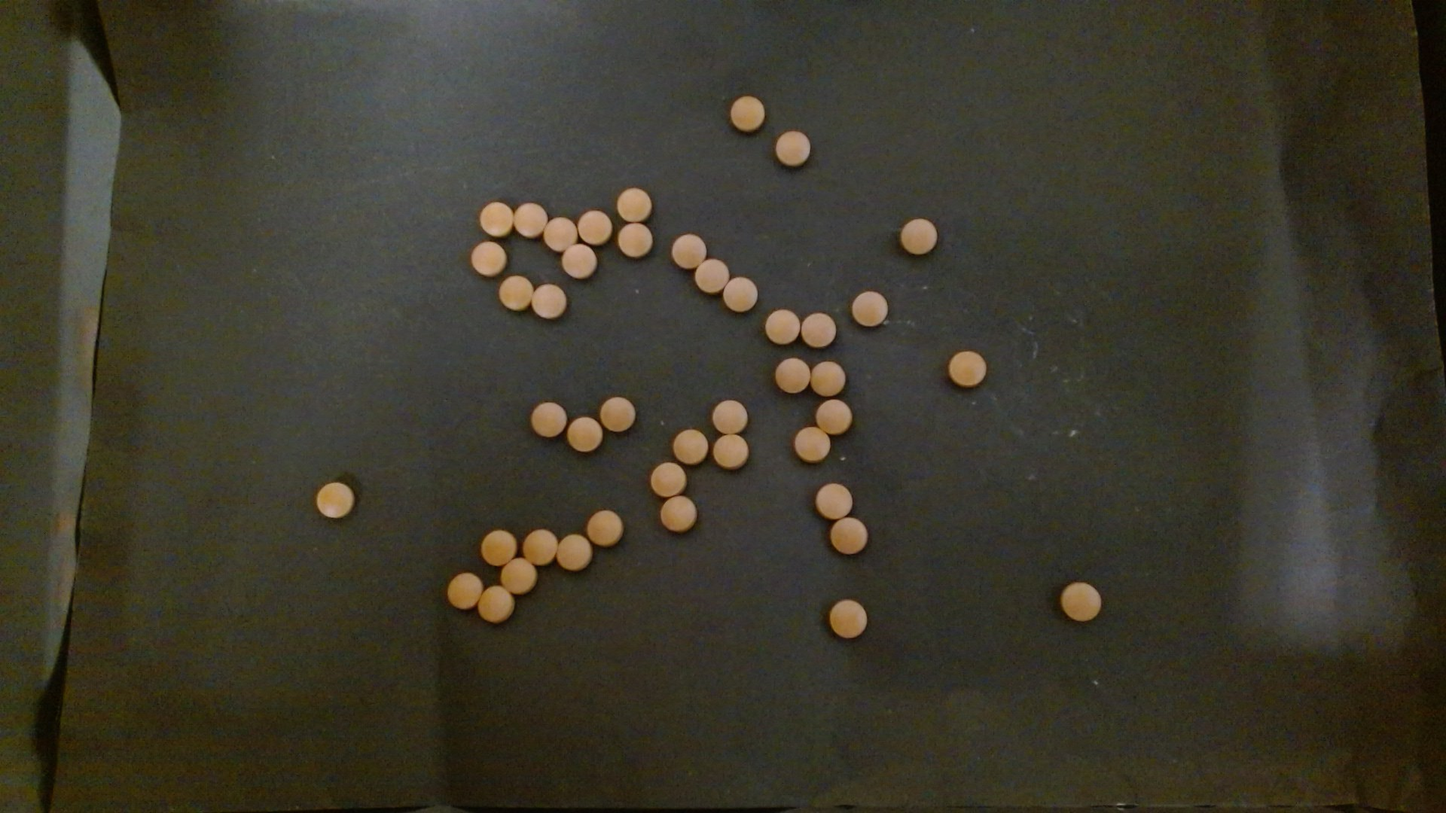Circle: (827, 598, 868, 640), (1059, 581, 1101, 622), (829, 517, 869, 556), (315, 480, 355, 519), (947, 349, 987, 387), (659, 495, 699, 533), (530, 400, 568, 439), (898, 218, 938, 255), (470, 239, 508, 277), (476, 585, 514, 623), (814, 482, 853, 519), (850, 290, 889, 327), (773, 129, 811, 166), (793, 426, 831, 463), (728, 94, 765, 132), (764, 308, 801, 345), (477, 200, 514, 237), (480, 529, 517, 566), (712, 433, 749, 470), (773, 356, 810, 393), (566, 416, 602, 453), (712, 398, 748, 435), (556, 534, 592, 571), (650, 462, 687, 498), (447, 573, 483, 610), (530, 283, 566, 319), (561, 243, 597, 279), (616, 186, 652, 222), (587, 510, 623, 546), (500, 559, 536, 595), (811, 360, 846, 397), (599, 396, 636, 431), (801, 312, 836, 349), (617, 222, 653, 257), (523, 529, 558, 565), (816, 399, 852, 434), (672, 429, 707, 464), (577, 209, 612, 244), (513, 201, 547, 237), (498, 275, 532, 310), (695, 258, 728, 294), (672, 233, 705, 269), (725, 276, 758, 312), (543, 217, 577, 251)
